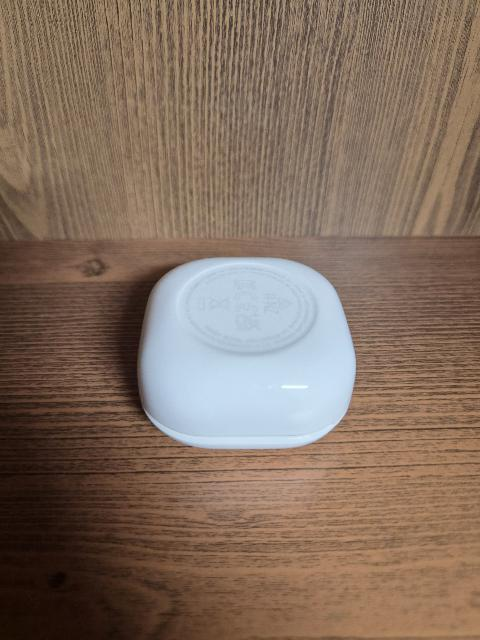earphone_case: (136, 256, 356, 451)
